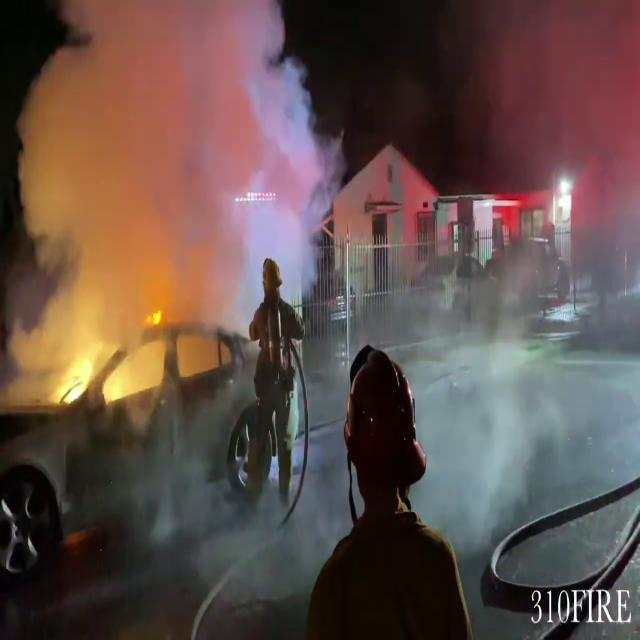Fire: (54, 302, 172, 412)
Smoke: (2, 1, 332, 308)
